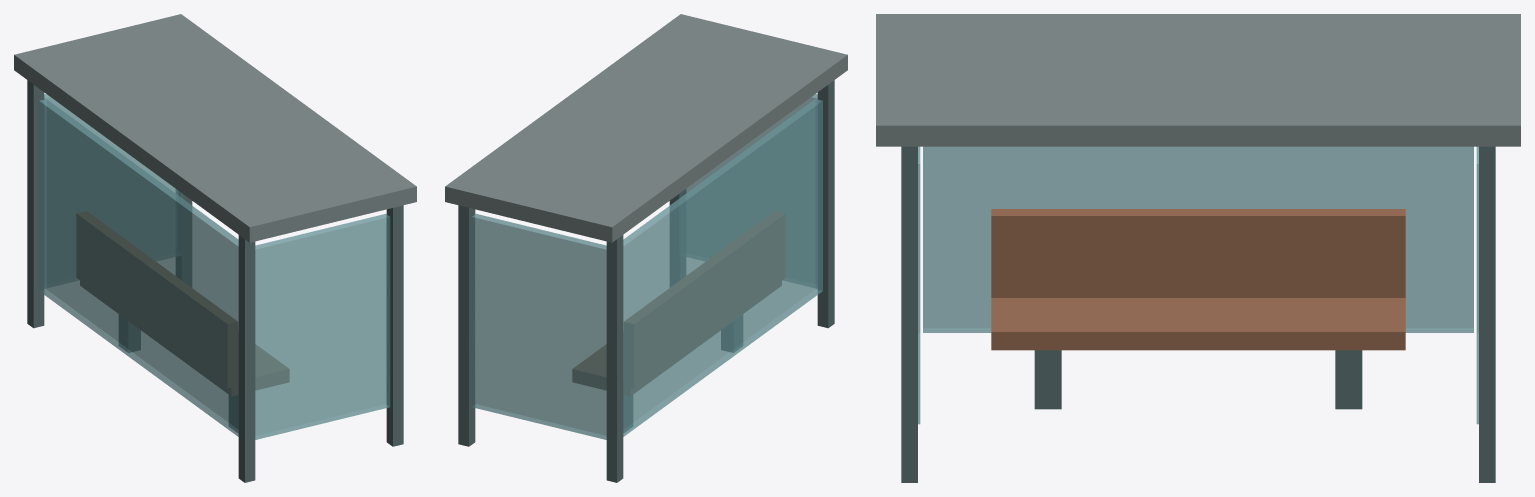
The model's file is harperhay-bus-shelter.glb.
3 renders of one model, left to right at view 1: azimuth 30°, elevation 25°; view 2: azimuth 150°, elevation 25°; view 3: azimuth 270°, elevation 25°, orthographic. The views are drawn at different scales.
Visible parts, largest first — view 1: shelter-roof, shelter-rear-panel, shelter-side-panel-south, shelter-side-panel-north, bench-back, shelter-post-rear-south, shelter-post-rear-north, shelter-post-front-south, bench-seat, shelter-post-front-north, bench-leg-north; view 2: shelter-roof, shelter-rear-panel, shelter-side-panel-north, shelter-side-panel-south, bench-back, shelter-post-rear-north, shelter-post-front-north, shelter-post-rear-south, bench-seat, shelter-post-front-south, bench-leg-south; view 3: shelter-roof, shelter-rear-panel, bench-back, bench-seat, shelter-post-front-south, shelter-post-front-north, bench-leg-south, bench-leg-north, shelter-side-panel-south, shelter-side-panel-north.
Boxes of the visible parts, box(x1,y1,x2,y2) form: shelter-roof: box(14, 14, 416, 242); shelter-rear-panel: box(39, 99, 238, 436); shelter-side-panel-south: box(255, 213, 390, 439); shelter-side-panel-north: box(44, 94, 182, 287); bench-back: box(76, 211, 237, 387); shelter-post-rear-south: box(238, 235, 255, 482); shelter-post-rear-north: box(27, 80, 44, 328); shelter-post-front-south: box(386, 205, 403, 446); bench-seat: box(80, 281, 289, 395); shelter-post-front-north: box(176, 189, 192, 286); bench-leg-north: box(119, 315, 140, 352); shelter-roof: box(445, 14, 847, 242); shelter-rear-panel: box(623, 99, 822, 436); shelter-side-panel-north: box(471, 213, 606, 439); shelter-side-panel-south: box(679, 94, 817, 287); bench-back: box(624, 211, 785, 387); shelter-post-rear-north: box(606, 235, 623, 482); shelter-post-front-north: box(458, 205, 475, 446); shelter-post-rear-south: box(817, 80, 834, 328); bench-seat: box(572, 281, 781, 395); shelter-post-front-south: box(669, 189, 685, 286); bench-leg-south: box(721, 315, 742, 352); shelter-roof: box(876, 14, 1520, 146); shelter-rear-panel: box(923, 146, 1473, 332); bench-back: box(991, 209, 1405, 297); bench-seat: box(991, 298, 1405, 350); shelter-post-front-south: box(901, 146, 917, 482); shelter-post-front-north: box(1479, 146, 1495, 482); bench-leg-south: box(1034, 350, 1061, 409); bench-leg-north: box(1335, 350, 1362, 409); shelter-side-panel-south: box(918, 146, 920, 424); shelter-side-panel-north: box(1476, 146, 1478, 424).
Bounding box in the file's own units: 1.58 × 2.38 × 3.86.
